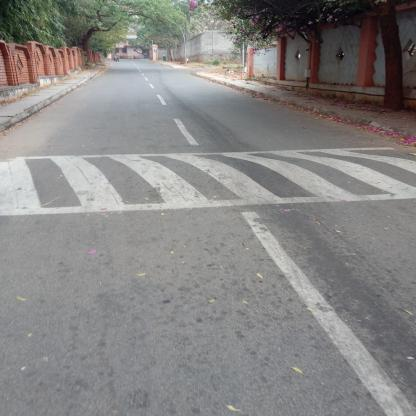speed-bumps: (0, 142, 415, 220)
